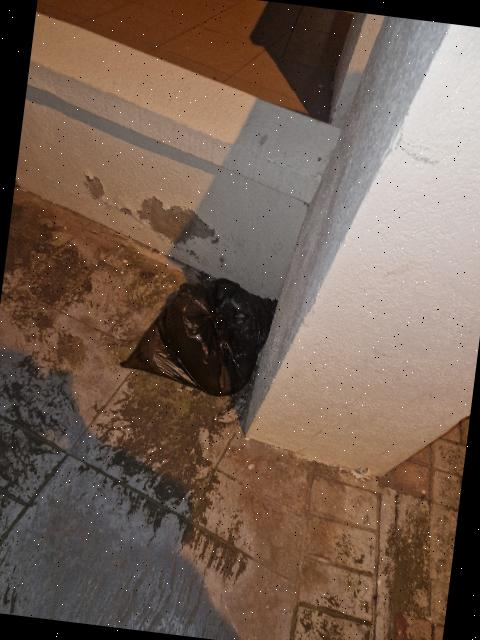Mixed -Black-: (121, 278, 277, 396)
